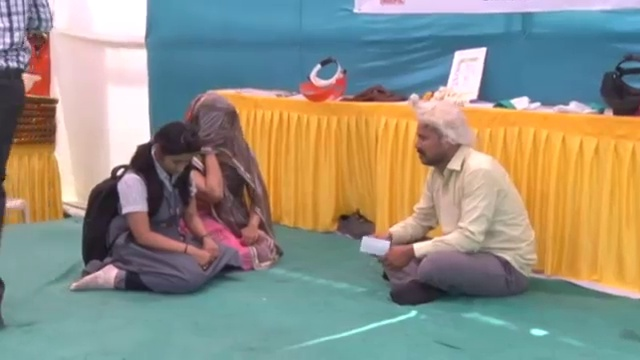helmet: (18, 69, 43, 92)
helmet_off: (403, 107, 476, 175), (148, 116, 201, 184), (186, 95, 243, 157)
person: (357, 100, 549, 309), (72, 122, 231, 300), (165, 92, 277, 269), (0, 1, 55, 338), (14, 6, 55, 95)
